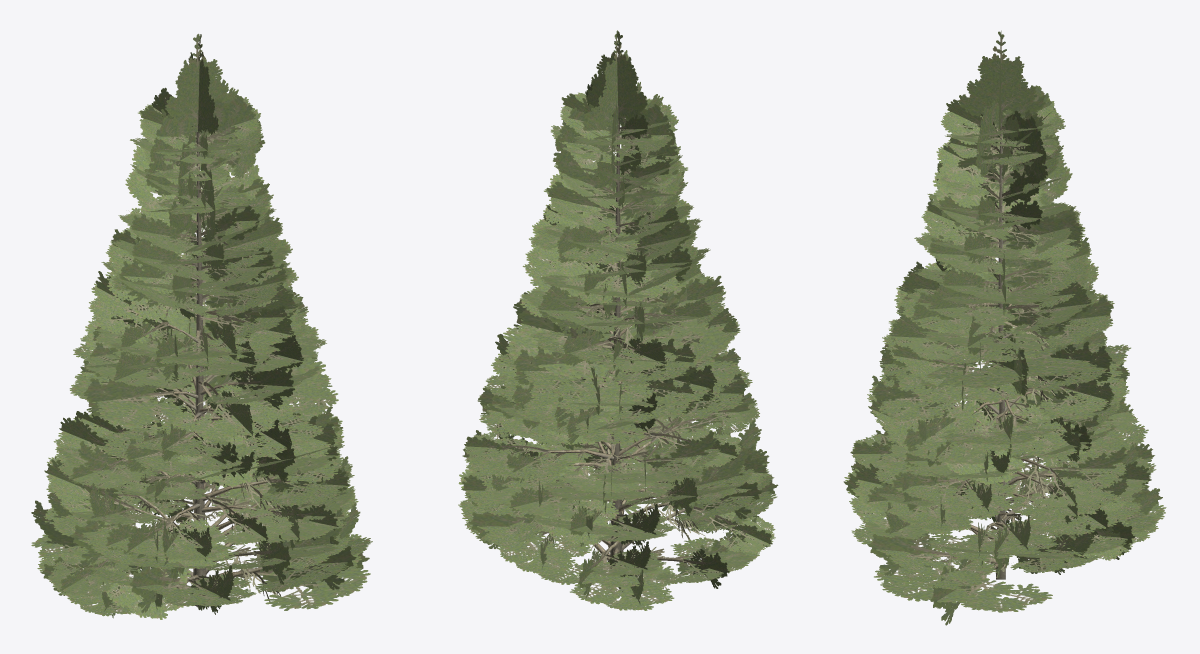
File: AbiesBalsamea.glb
3 renders of one model, left to right at view 1: azimuth 30°, elevation 25°; view 2: azimuth 150°, elevation 25°; view 3: azimuth 270°, elevation 25°, orthographic. The views are drawn at different scales.
Parts seen in each view (by area): view 1: Balsam_Fir__Realistic_LOD3; view 2: Balsam_Fir__Realistic_LOD3; view 3: Balsam_Fir__Realistic_LOD3.
Part boxes in pixels (bbox=[...]): Balsam_Fir__Realistic_LOD3: bbox=[31, 33, 372, 619]; Balsam_Fir__Realistic_LOD3: bbox=[458, 30, 778, 610]; Balsam_Fir__Realistic_LOD3: bbox=[843, 30, 1166, 625].
Bounding box in the file's own units: 8.27 × 13.66 × 7.97.
1 material, 1 textured.
